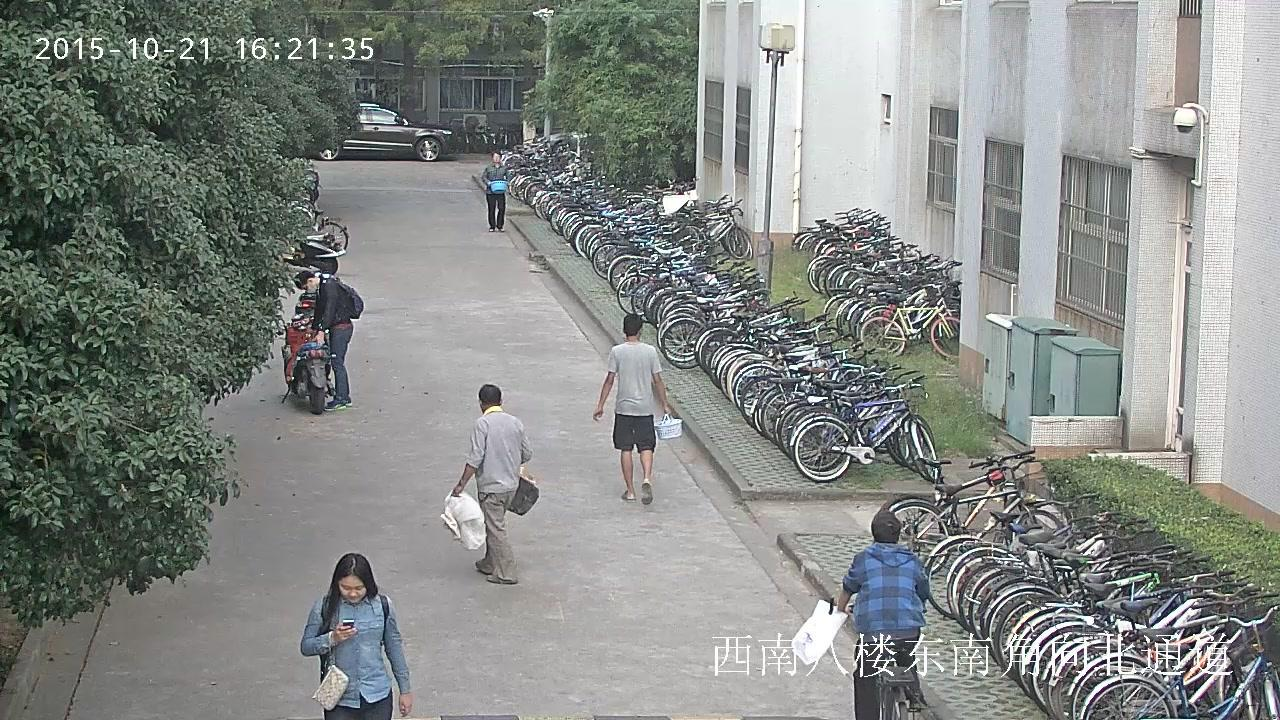face: (339, 575, 366, 602), (304, 284, 317, 292), (492, 152, 501, 163)
